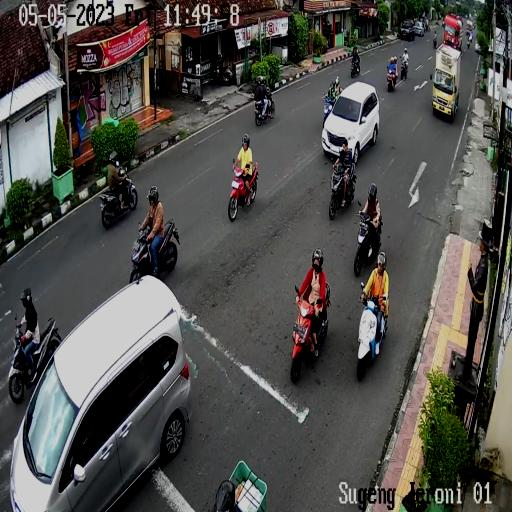mobil: (7, 282, 199, 512), (321, 83, 380, 162), (432, 44, 461, 121)
motor: (8, 318, 63, 410), (291, 283, 332, 391), (130, 212, 180, 286), (355, 281, 389, 380), (99, 166, 137, 232), (356, 199, 384, 275), (228, 156, 260, 222), (328, 159, 358, 219), (320, 88, 341, 141), (254, 85, 276, 128), (384, 67, 398, 92), (399, 56, 410, 82), (348, 55, 360, 78)
